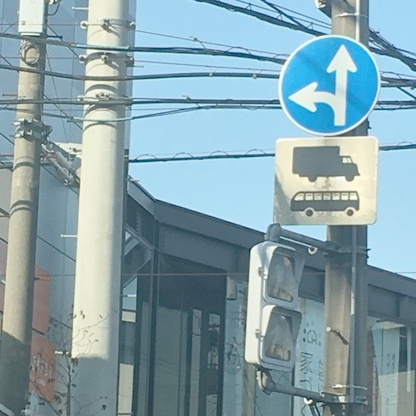Direction_sign: (267, 35, 382, 136)
